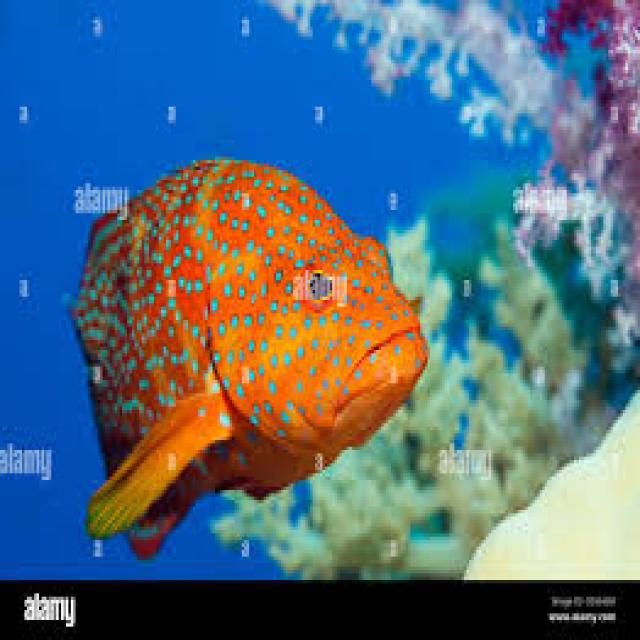Plectropomus-leopardus: (46, 121, 444, 547)
